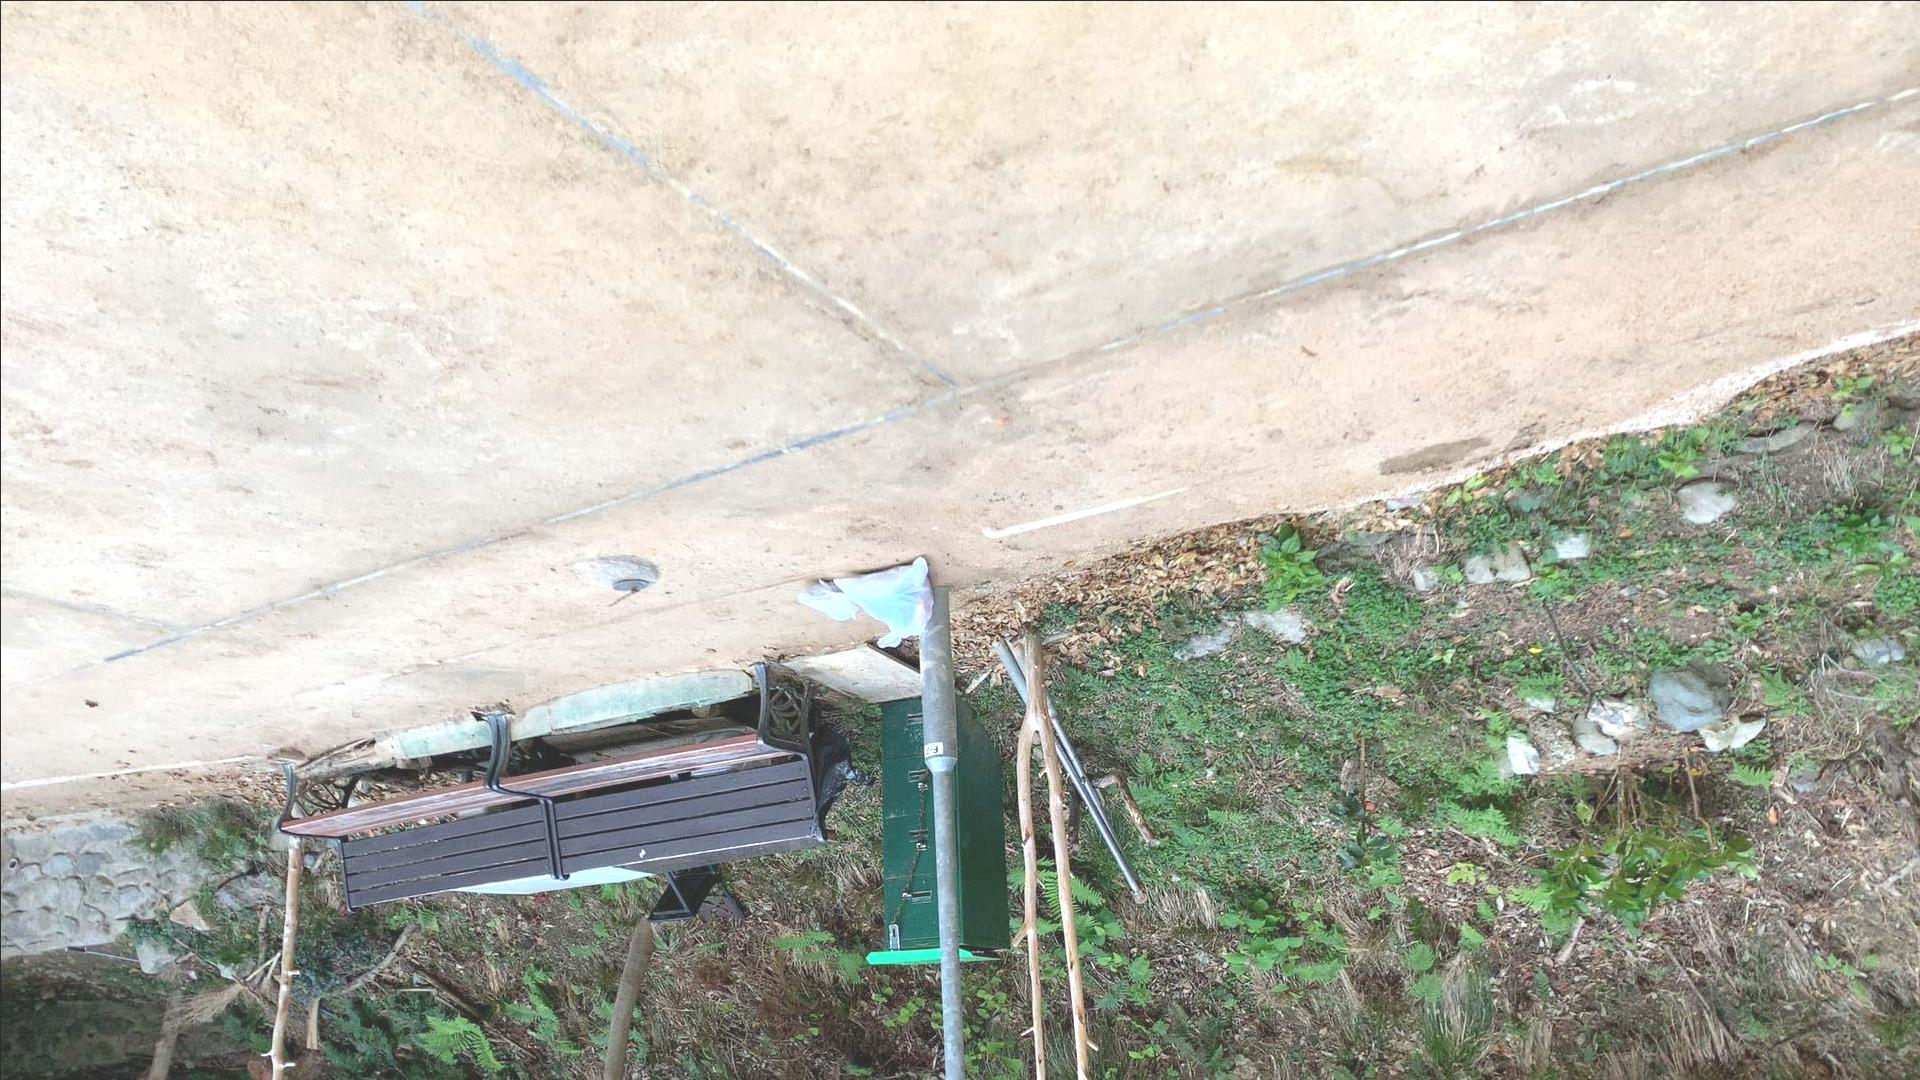white_bag: (832, 556, 938, 651), (793, 579, 861, 625)
